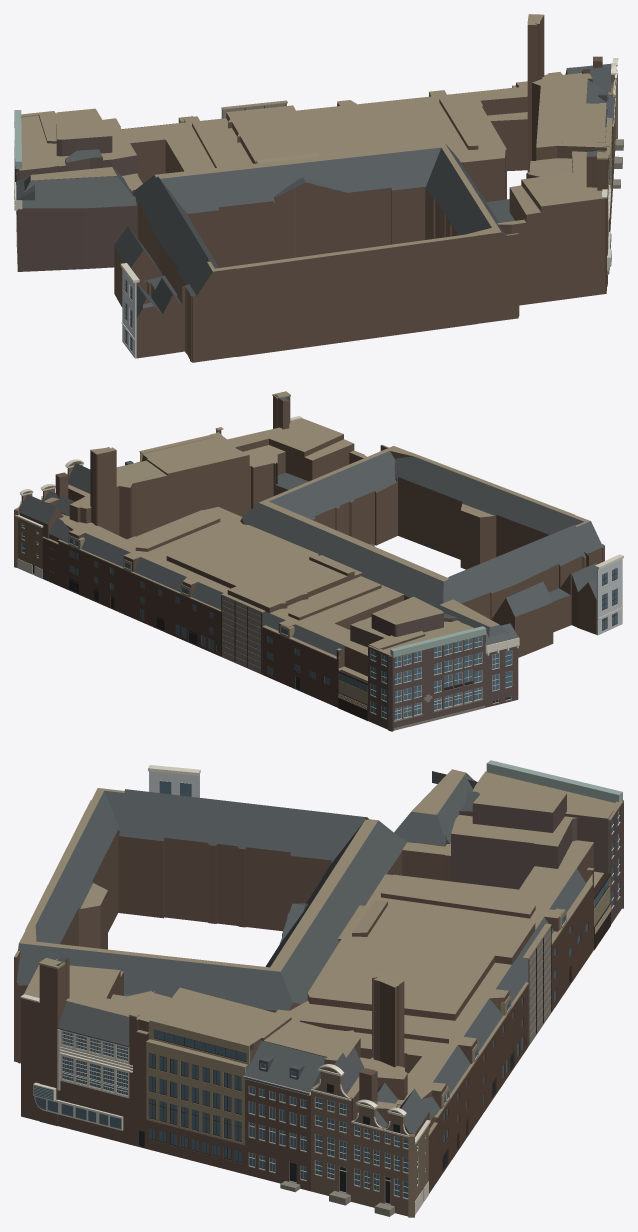
Rendered from binnengasthuis-kloveniersburgwal.glb.
3 renders of one model, top to bottom at view 1: azimuth 30°, elevation 25°; view 2: azimuth 150°, elevation 25°; view 3: azimuth 270°, elevation 25°, orthographic. The views are drawn at different scales.
Visible parts, largest first — view 1: binnengasthuis-kloveniersburgwal; view 2: binnengasthuis-kloveniersburgwal; view 3: binnengasthuis-kloveniersburgwal.
Boxes of the visible parts, x1,y1,x2,y2 form: binnengasthuis-kloveniersburgwal: (14, 14, 623, 362); binnengasthuis-kloveniersburgwal: (14, 391, 623, 731); binnengasthuis-kloveniersburgwal: (14, 760, 623, 1217).
Bounding box in the file's own units: 113 × 27.1 × 81.86.
